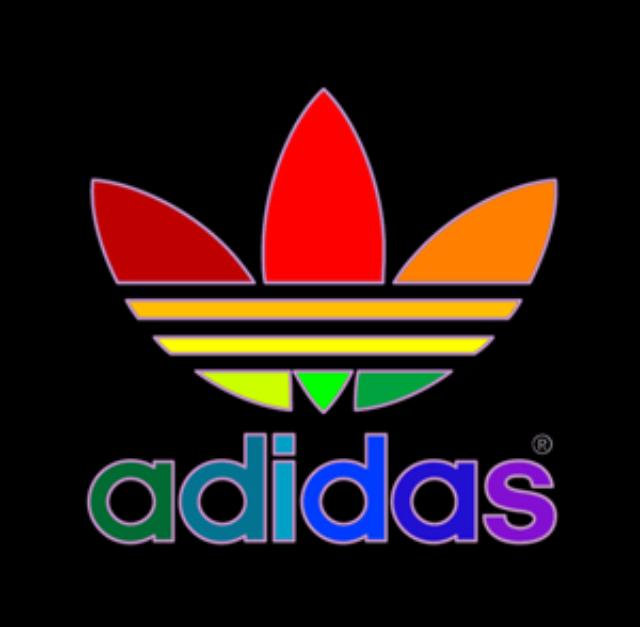Adidas: (72, 60, 574, 558), (81, 63, 571, 418), (69, 416, 582, 568)
